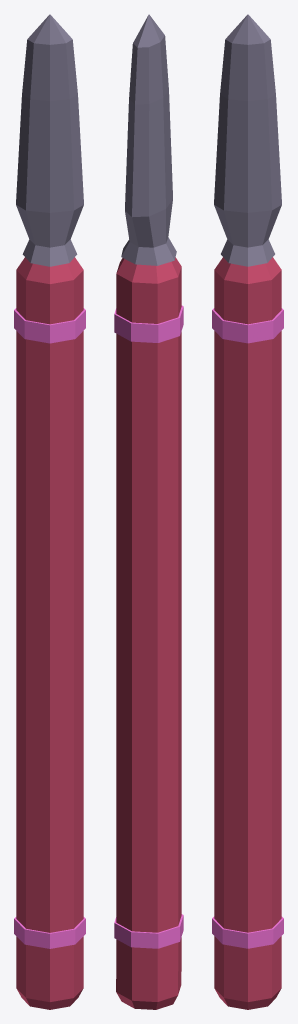
The model's file is Spear.fbx.
The picture shows the model from 3 angles, left to right: view 1: azimuth 90°, elevation 25°; view 2: azimuth 150°, elevation 25°; view 3: azimuth 270°, elevation 25°; orthographic projection.
Visible parts, largest first — view 1: Spear; view 2: Spear; view 3: Spear.
Boxes of the visible parts, <box> form: Spear: <box>14,14,85,1009</box>; Spear: <box>114,14,183,1009</box>; Spear: <box>212,14,283,1009</box>.
Size of the model in its own units: 198 by 2993 by 198.
